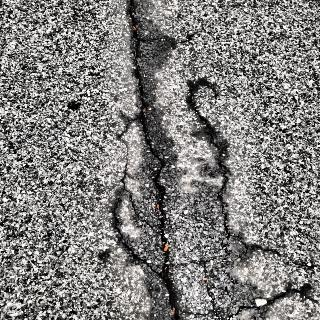crack: (100, 5, 260, 318)
